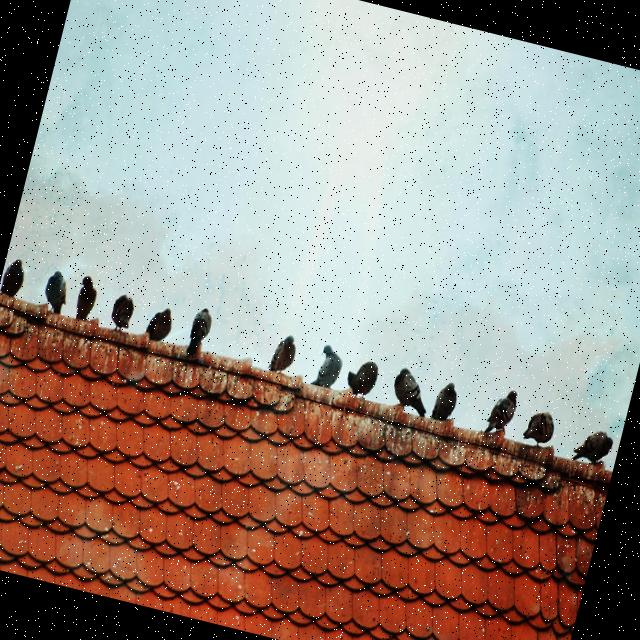bird: (386, 364, 436, 418), (569, 424, 616, 471), (482, 384, 520, 440), (341, 355, 381, 402), (309, 342, 346, 391), (520, 406, 558, 450), (39, 268, 73, 316), (266, 331, 300, 376), (72, 273, 102, 323), (429, 378, 461, 424), (142, 303, 176, 345), (106, 290, 137, 334), (0, 255, 28, 299)
